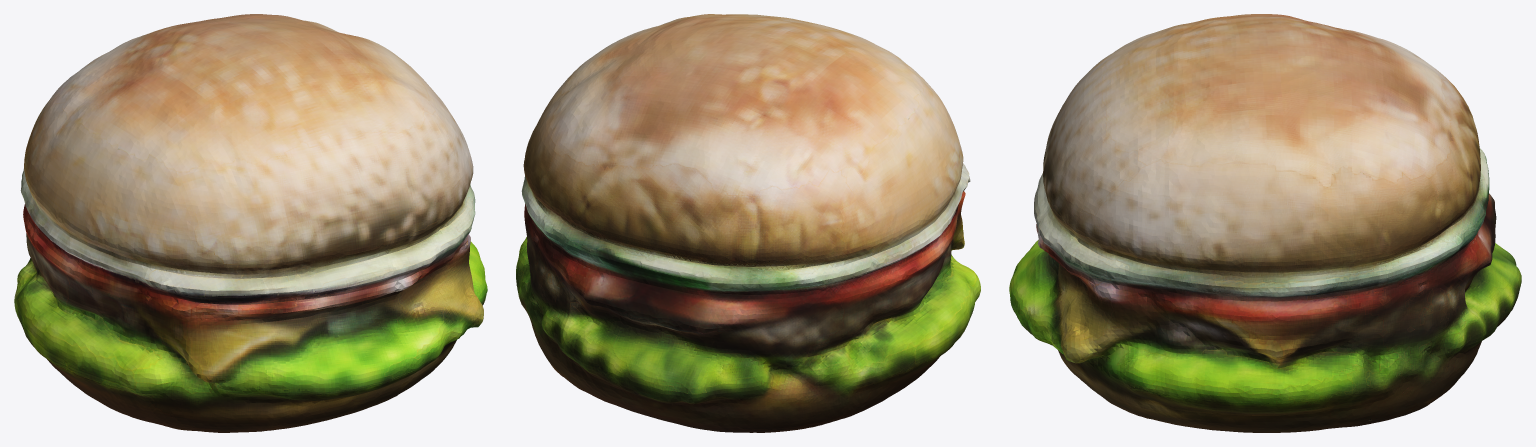
Rendered from a hamburger._4.glb.
The picture shows the model from 3 angles, left to right: view 1: azimuth 30°, elevation 25°; view 2: azimuth 150°, elevation 25°; view 3: azimuth 270°, elevation 25°; orthographic projection. The views are drawn at different scales.
Size of the model in its own units: 0.8653 by 0.6343 by 0.9008.
1 material, 1 textured.
